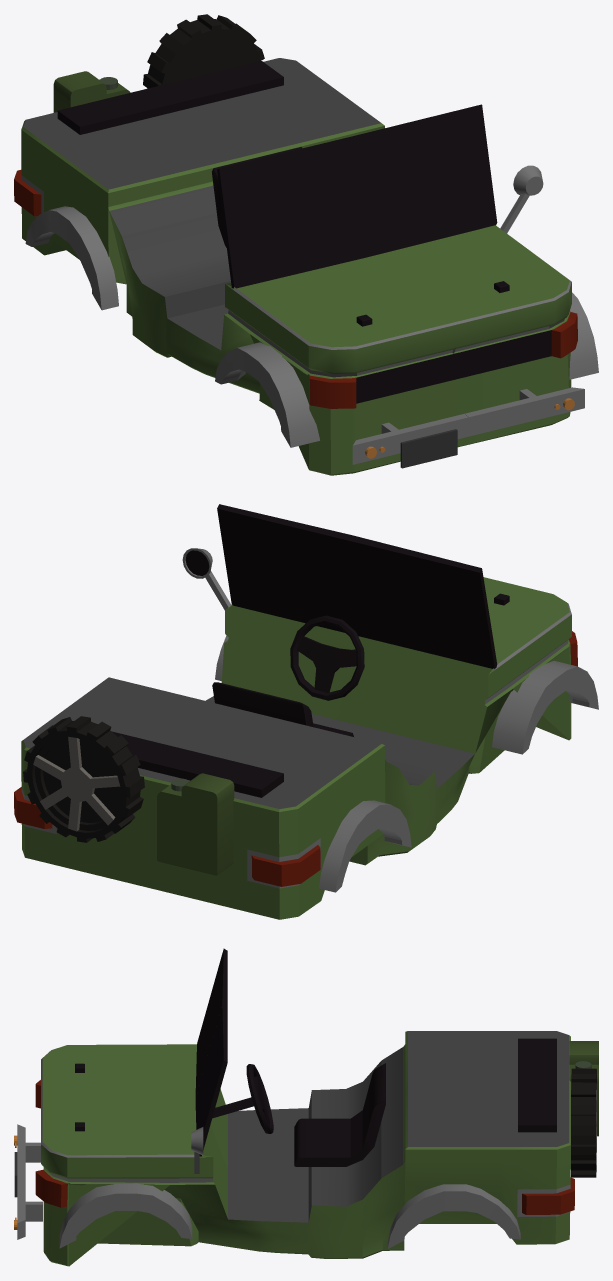
Rendered from JEEP02.fbx.
3 views of the same model, one above another, from view 1: azimuth 30°, elevation 25°; view 2: azimuth 150°, elevation 25°; view 3: azimuth 270°, elevation 25° (orthographic). The views are drawn at different scales.
Visible parts, largest first — view 1: VOLANTE, Cylinder.006, Cube.002, Cube.003; view 2: VOLANTE, Cylinder.006, Cube.002; view 3: VOLANTE, Cylinder.006, Cube.002.
Part boxes in pixels (x1,y1,x2,y2): VOLANTE: [14, 58, 598, 475]; Cylinder.006: [143, 14, 264, 88]; Cube.002: [53, 71, 130, 112]; Cube.003: [400, 429, 457, 468]; VOLANTE: [14, 504, 598, 919]; Cylinder.006: [23, 716, 144, 842]; Cube.002: [157, 773, 234, 875]; VOLANTE: [14, 948, 574, 1266]; Cylinder.006: [571, 1068, 596, 1177]; Cube.002: [569, 1041, 598, 1136].
Size of the model in its own units: 255 by 173 by 442.
